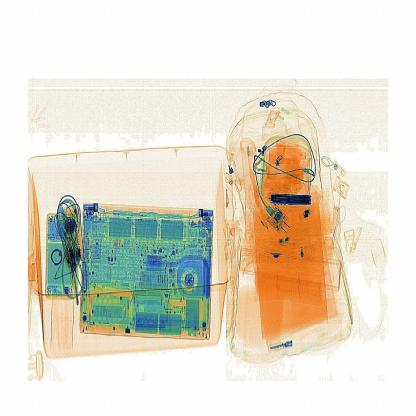scissors: (265, 186, 324, 216)
